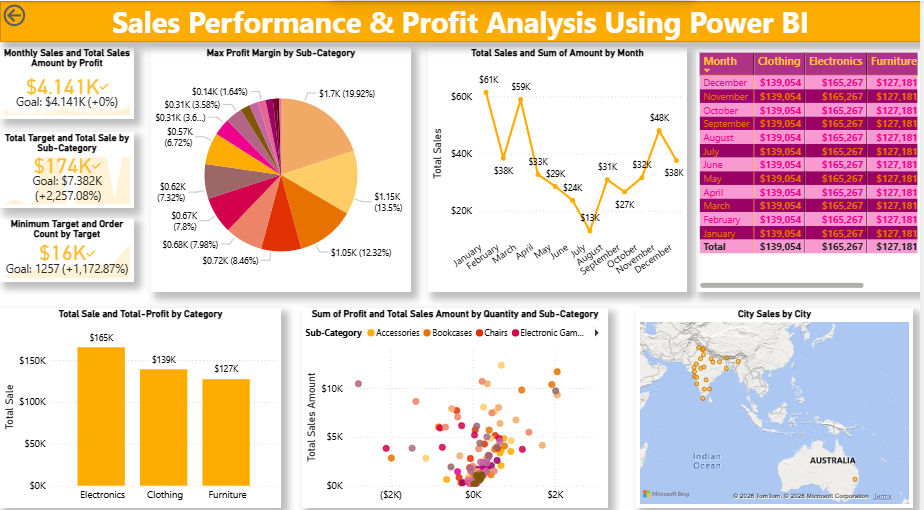

The dashboard page shown, as its layout file describes it:
{"tool":"powerbi","page":{"name":"DashBoard 2","canvas":[1280,720],"ordinal":1},"visuals":[{"type":"shape","box":[0,0,1280,57.1],"z":0},{"type":"clusteredColumnChart","fields":{"Y":["Order Details.Total Sale"],"Category":["Order Details.Category"]},"box":[0,426.7,390.6,278],"z":1000},{"type":"kpi","fields":{"Indicator":["Order Details.Monthly Sales"],"Goal":["Order Details.Total Sales Amount"],"TrendLine":["Order Details.Profit"]},"box":[0,63.9,186.3,100.1],"z":2000},{"type":"pieChart","fields":{"Category":["Order Details.Sub-Category"],"Y":["Order Details.Max Profit Margin"]},"box":[209.9,63.9,361.4,340.5],"z":3000},{"type":"lineChart","fields":{"Category":["List of Orders.Order Date.Variation.Date Hierarchy.Month"],"Y":["List of Orders.Total Sales"]},"box":[594.9,63.9,360,340.5],"z":4000},{"type":"scatterChart","fields":{"Category":["Order Details.Quantity"],"X":["Sum(Order Details.Profit)"],"Series":["Order Details.Sub-Category"],"Y":["Order Details.Total Sales Amount"]},"box":[419.8,426.7,425.3,278],"z":5000},{"type":"kpi","fields":{"Indicator":["Sales target.Total Target"],"Goal":["Order Details.Total Sale"],"TrendLine":["Total Amount.Sub-Category"]},"box":[0,182.1,186.3,105.6],"z":6000},{"type":"kpi","fields":{"Indicator":["Order Details.Minimum Target"],"Goal":["Order Details.Order Count"],"TrendLine":["Sales target.Target"]},"box":[0,301.6,186.3,89],"z":7000},{"type":"pivotTable","fields":{"Values":["Order Details.Total Sale"],"Rows":["Sales target.Month of Order Date.Variation.Date Hierarchy.Month"],"Columns":["Sales target.Category"]},"box":[967.4,66.7,312.7,337.8],"z":8000},{"type":"actionButton","box":[0,0,100,40],"z":9000},{"type":"map","fields":{"Category":["List of Orders.City"],"Y":["Order Details.City Sales"]},"box":[884,426.7,385,278],"z":10000}]}

Visuals, with their boxes in screenshot pixels (x1, y1, x2, y2), scaled from the page's 1280x720 canvas onto the 924x510 screenshot:
shape: <bbox>0, 0, 923, 40</bbox>
clusteredColumnChart - Order Details.Total Sale x Order Details.Category: <bbox>0, 302, 282, 499</bbox>
kpi - Order Details.Monthly Sales x Order Details.Total Sales Amount: <bbox>0, 45, 134, 116</bbox>
pieChart - Order Details.Sub-Category x Order Details.Max Profit Margin: <bbox>152, 45, 412, 286</bbox>
lineChart - List of Orders.Order Date.Variation.Date Hierarchy.Month x List of Orders.Total Sales: <bbox>429, 45, 689, 286</bbox>
scatterChart - Order Details.Quantity x Sum(Order Details.Profit): <bbox>303, 302, 610, 499</bbox>
kpi - Sales target.Total Target x Order Details.Total Sale: <bbox>0, 129, 134, 204</bbox>
kpi - Order Details.Minimum Target x Order Details.Order Count: <bbox>0, 214, 134, 277</bbox>
pivotTable - Order Details.Total Sale x Sales target.Month of Order Date.Variation.Date Hierarchy.Month: <bbox>698, 47, 923, 287</bbox>
actionButton: <bbox>0, 0, 72, 28</bbox>
map - List of Orders.City x Order Details.City Sales: <bbox>638, 302, 916, 499</bbox>
